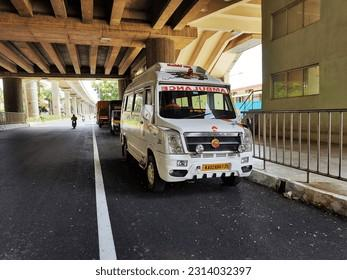ER: (120, 63, 252, 189)
